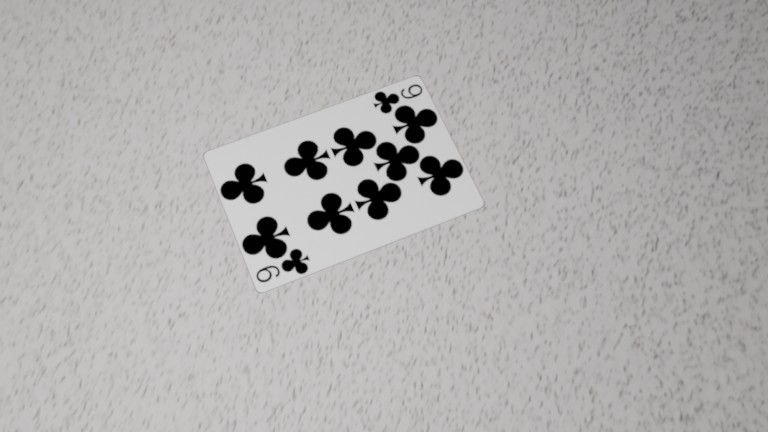9_of_clubs: (251, 244, 316, 292), (367, 77, 428, 118)
